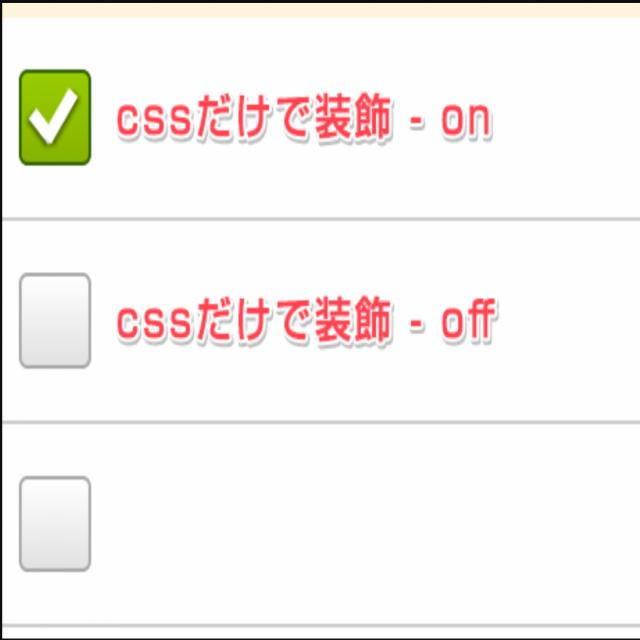checkbox: (17, 66, 93, 168)
